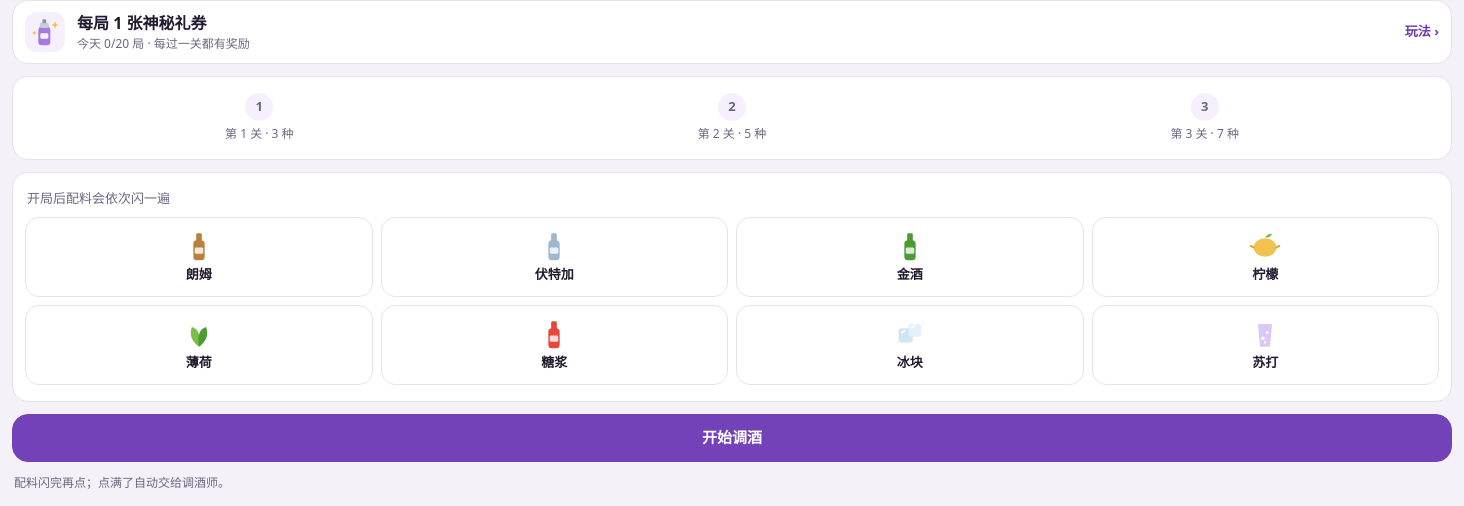
Test: MemoryPanel › 局在别处已经结束：回到开局状态并刷新（PR28 遗留）
Click the button with test id "mem-start": (732, 438) left=12, top=414, right=1452, bottom=462
Wait 2200 ms
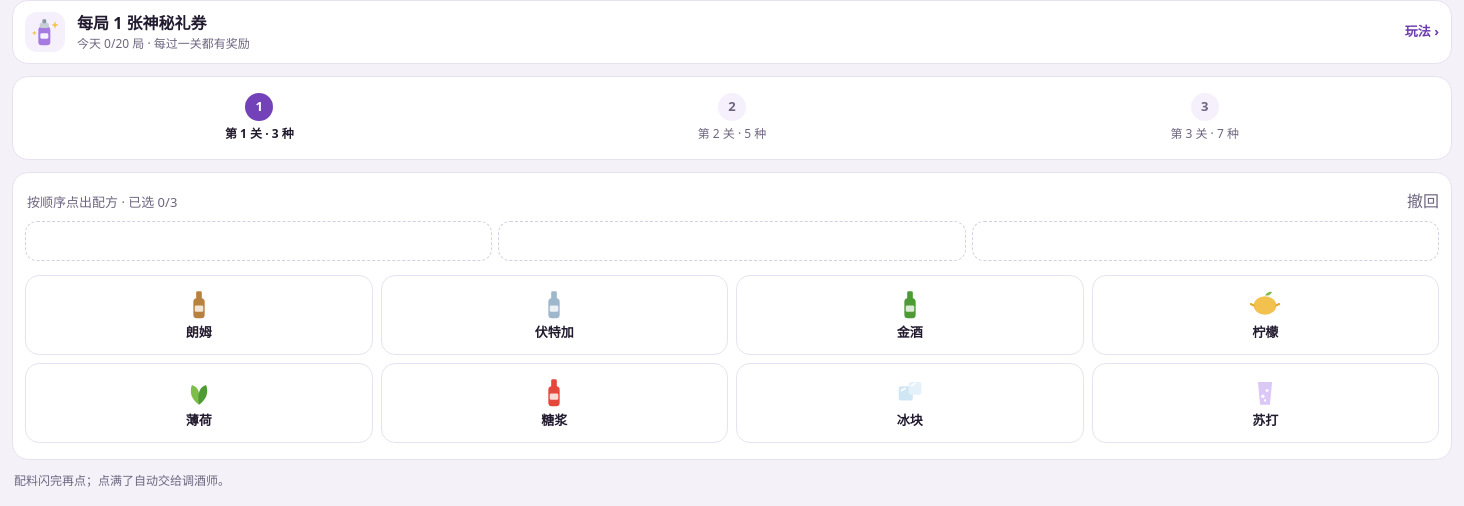
Click the button with test id "mix-1": (554, 314) left=380, top=274, right=728, bottom=354
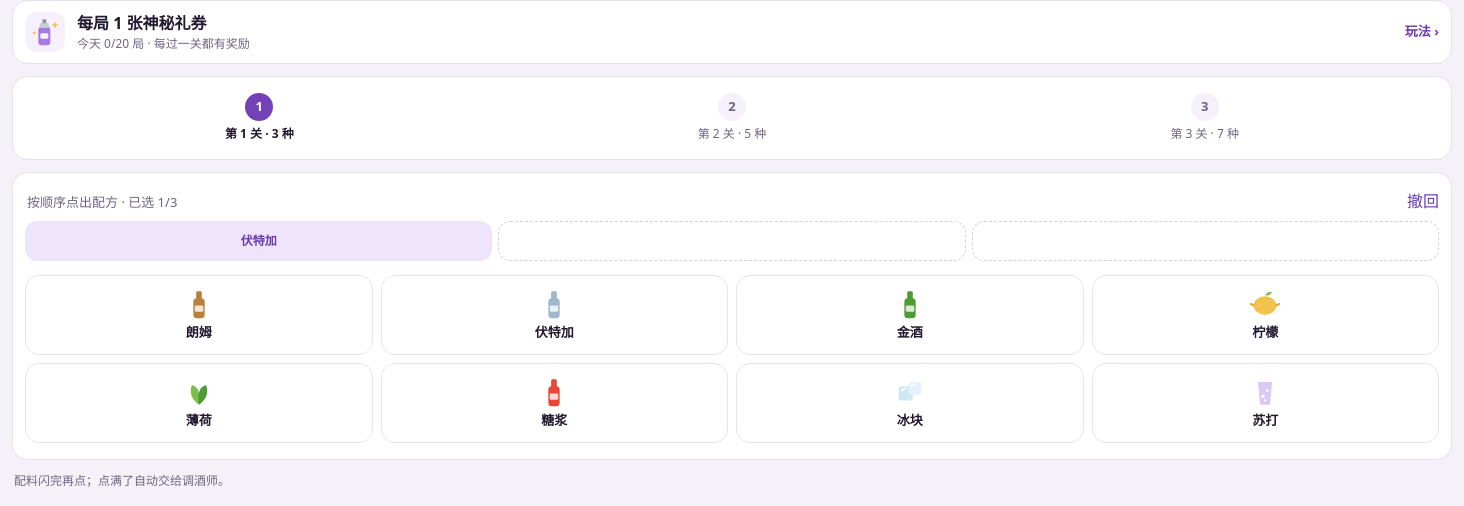
Click the button "柠檬": (1265, 314) left=1092, top=274, right=1439, bottom=354
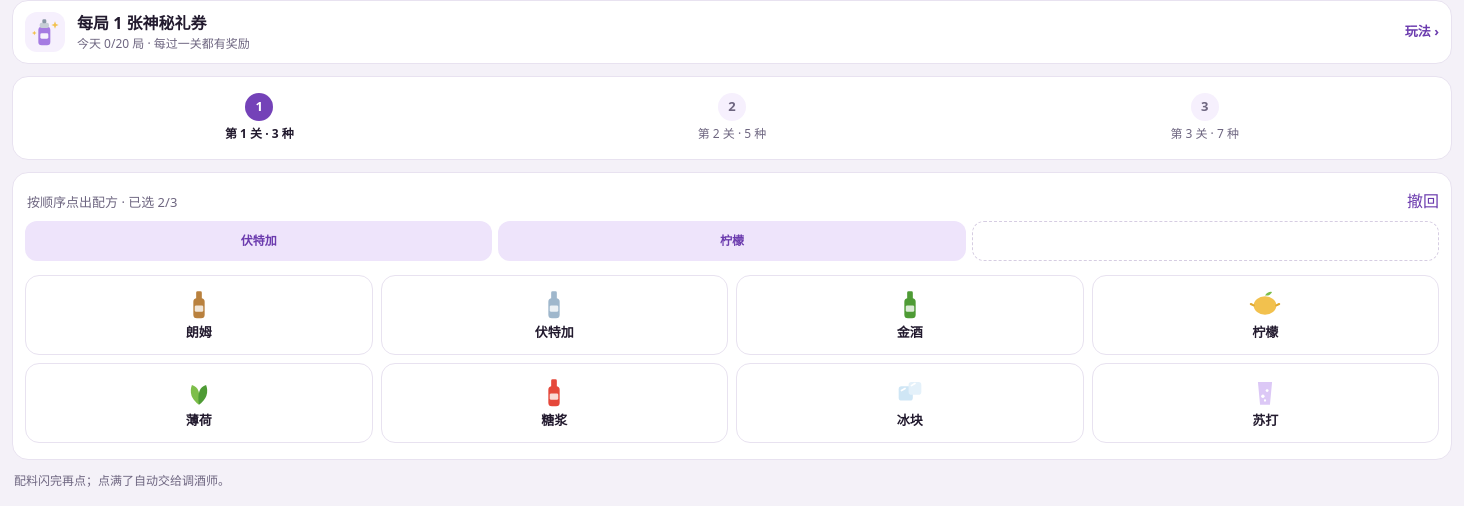
Click the button with test id "mix-1": (554, 314) left=380, top=274, right=728, bottom=354
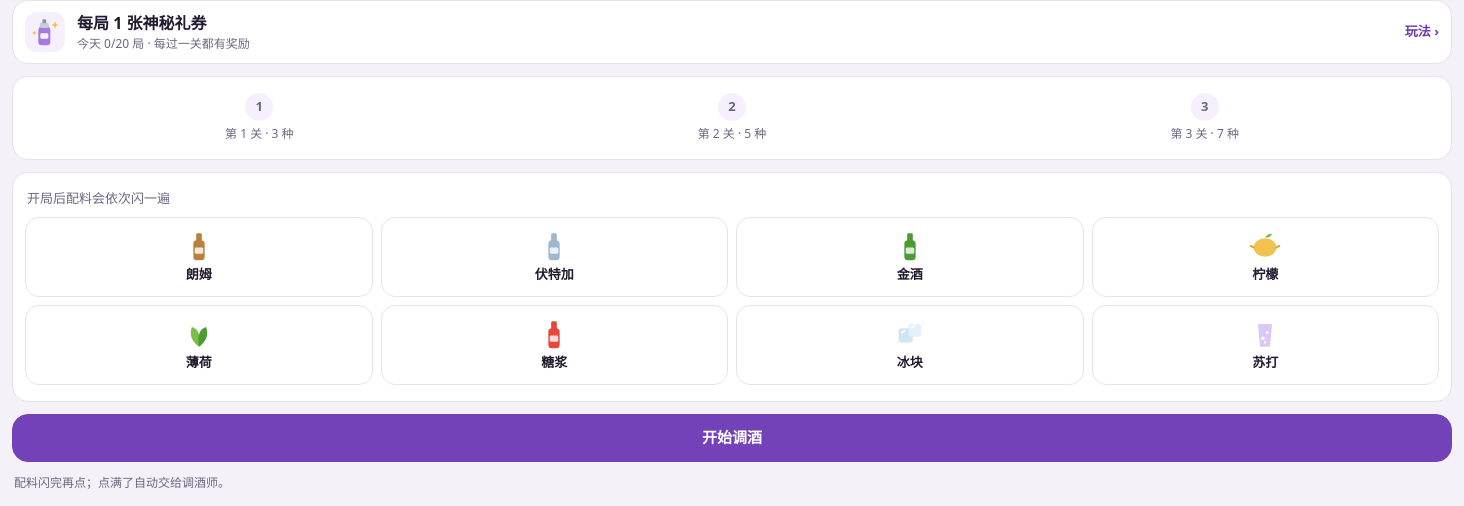
Expected: the button with test id "mem-start" is shown, left=12, top=414, right=1452, bottom=462
